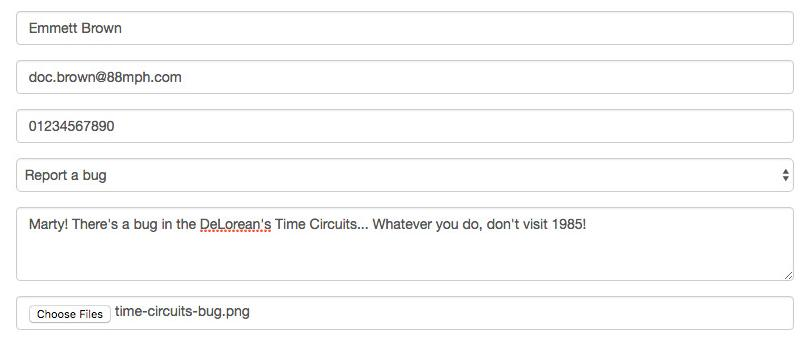button: (25, 302, 115, 325)
field: (12, 204, 796, 282), (14, 10, 796, 47), (12, 60, 797, 96), (12, 107, 794, 143)
